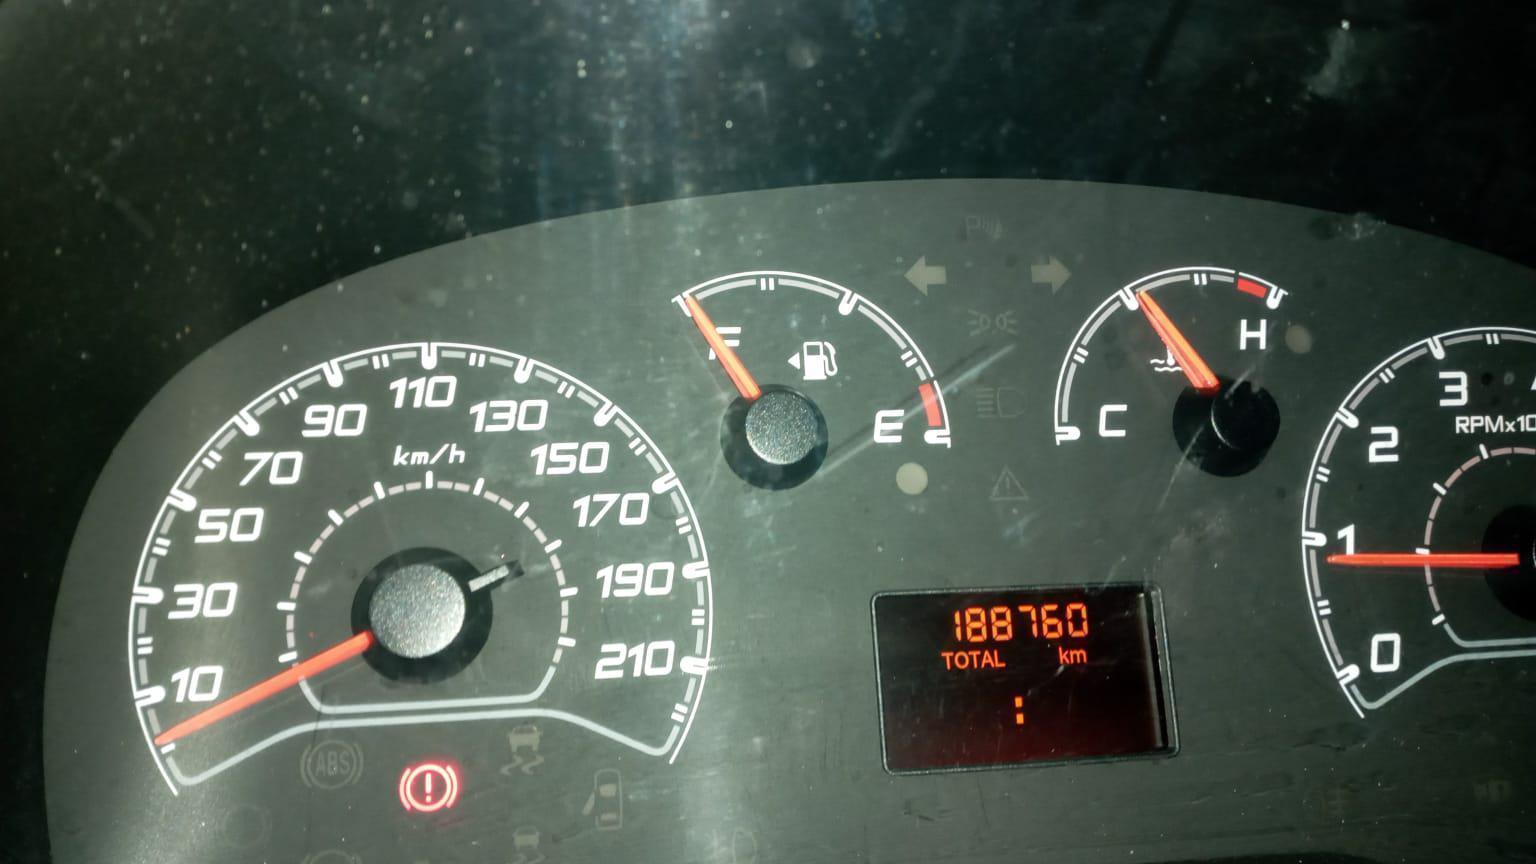0: (1065, 601, 1088, 638)
1: (952, 609, 962, 642)
6: (1040, 603, 1063, 639)
7: (1017, 604, 1038, 638)
8: (964, 606, 988, 644), (988, 604, 1013, 641)
X: (1013, 694, 1025, 725), (953, 650, 969, 669), (939, 651, 953, 671), (967, 650, 981, 670), (1069, 649, 1087, 664), (993, 649, 1006, 668), (980, 649, 994, 668), (1057, 645, 1070, 664)
odometer: (868, 579, 1182, 777)
